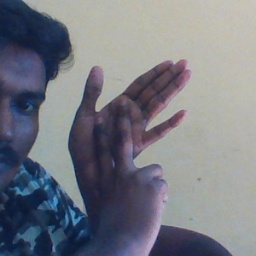N: (65, 60, 195, 211)
